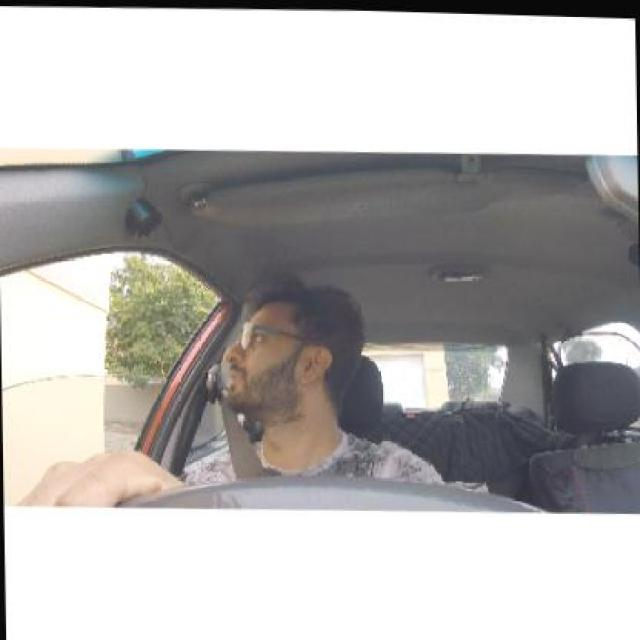LeftRight: (214, 286, 365, 420)
